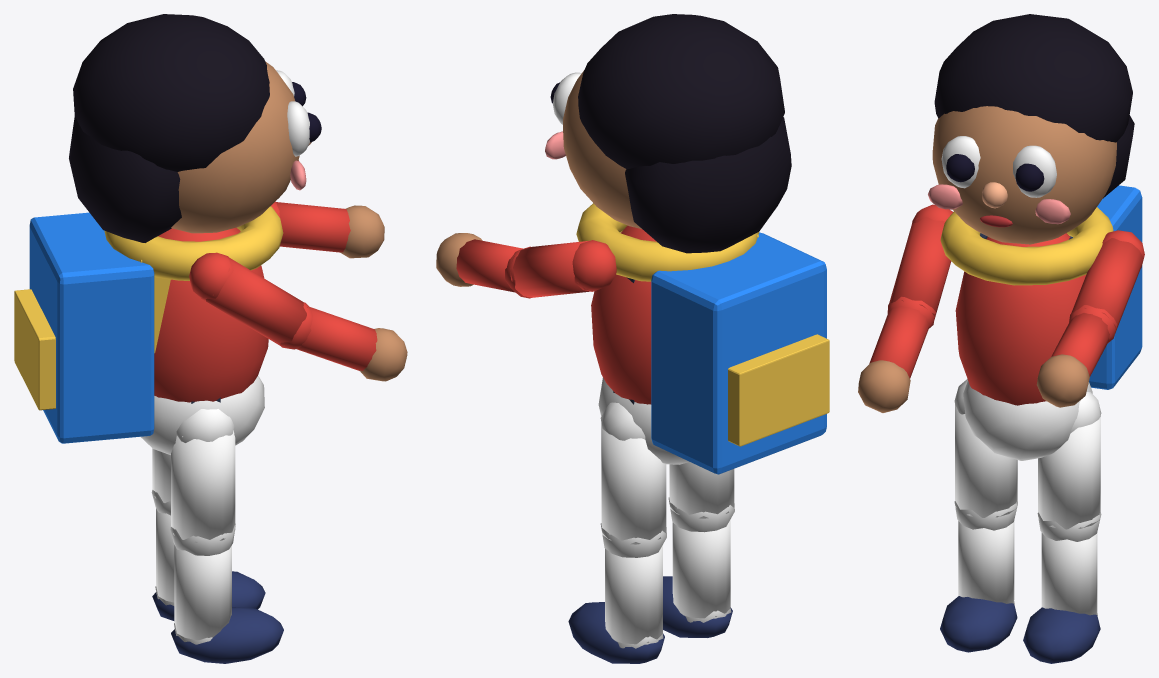
The model's file is hrdina_3_radost.glb.
3 renders of one model, left to right at view 1: azimuth 30°, elevation 25°; view 2: azimuth 150°, elevation 25°; view 3: azimuth 270°, elevation 25°, orthographic. The views are drawn at different scales.
Parts seen in each view (by area): view 1: Sphere.011, Cube.001, Sphere, Sphere.002, Sphere.012, Cylinder.004, Torus, Cylinder.005, Cylinder, Cube.002, Sphere.025, Sphere.001 (+12 smaller); view 2: Cube.001, Sphere.011, Sphere.012, Cube.002, Sphere, Cylinder.006, Cylinder.005, Cylinder.007, Torus, Sphere.002, Cylinder.002, Cylinder.004 (+10 smaller); view 3: Sphere.011, Sphere.002, Sphere, Torus, Sphere.001, Cylinder.006, Cube.001, Cylinder.004, Cylinder.005, Cylinder.007, Cylinder, Cylinder.002 (+20 smaller).
Part boxes in pixels (left/top/right/bottom): Sphere.011: left=73, top=14, right=269, bottom=171; Cube.001: left=29, top=212, right=154, bottom=443; Sphere: left=154, top=227, right=268, bottom=402; Sphere.002: left=171, top=61, right=299, bottom=233; Sphere.012: left=69, top=116, right=181, bottom=242; Cylinder.004: left=171, top=430, right=235, bottom=542; Torus: left=104, top=206, right=283, bottom=280; Cylinder.005: left=174, top=545, right=231, bottom=640; Cylinder: left=201, top=258, right=307, bottom=345; Cube.002: left=14, top=289, right=55, bottom=410; Sphere.025: left=171, top=607, right=283, bottom=663; Sphere.001: left=140, top=375, right=264, bottom=454; Cube.001: left=651, top=232, right=826, bottom=474; Sphere.011: left=578, top=14, right=784, bottom=168; Sphere.012: left=625, top=117, right=791, bottom=253; Cube.002: left=728, top=334, right=829, bottom=446; Sphere: left=591, top=225, right=656, bottom=404; Cylinder.006: left=601, top=423, right=666, bottom=544; Cylinder.005: left=672, top=519, right=730, bottom=618; Cylinder.007: left=605, top=545, right=662, bottom=644; Torus: left=576, top=203, right=759, bottom=281; Sphere.002: left=563, top=70, right=641, bottom=228; Cylinder.002: left=510, top=240, right=594, bottom=297; Cylinder.004: left=669, top=462, right=734, bottom=518; Sphere.011: left=934, top=14, right=1132, bottom=142; Sphere.002: left=932, top=106, right=1116, bottom=244; Sphere: left=955, top=233, right=1085, bottom=405; Torus: left=940, top=207, right=1113, bottom=285; Sphere.001: left=963, top=381, right=1092, bottom=460; Cylinder.006: left=1038, top=417, right=1100, bottom=529; Cube.001: left=1070, top=185, right=1142, bottom=389; Cylinder.004: left=955, top=405, right=1017, bottom=517; Cylinder.005: left=958, top=521, right=1014, bottom=603; Cylinder.007: left=1041, top=533, right=1097, bottom=615; Cylinder: left=889, top=217, right=951, bottom=318; Cylinder.002: left=1071, top=238, right=1143, bottom=333.
Size of the model in its own units: 0.7746 by 1.27 by 0.5435.
